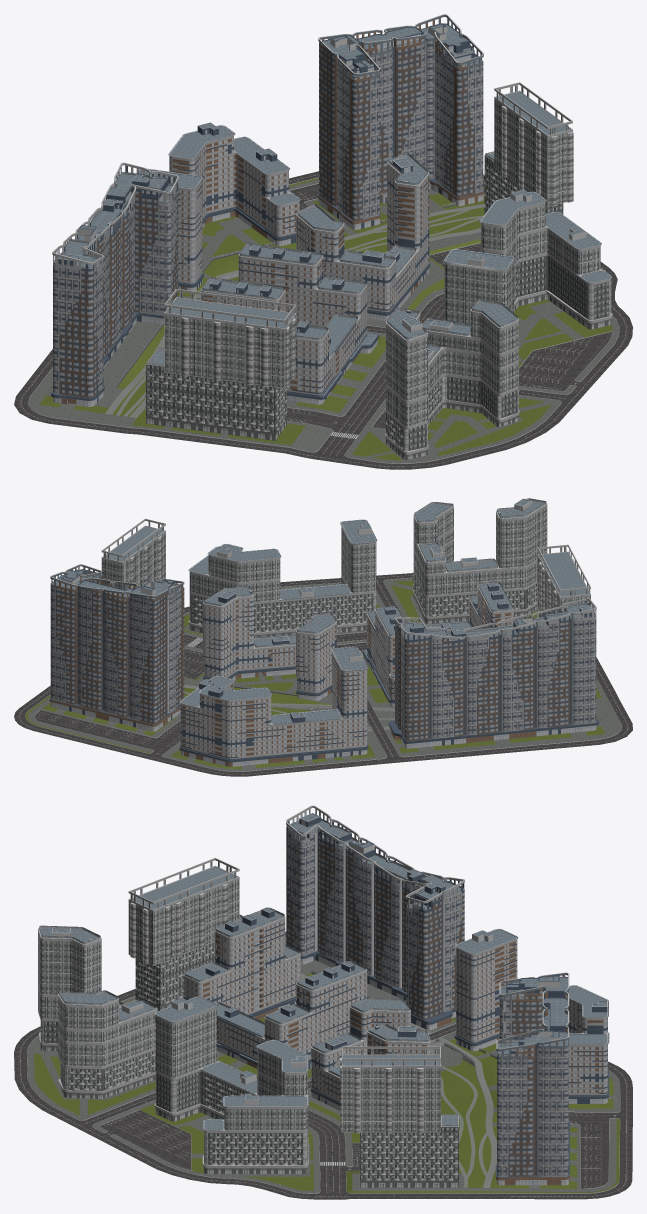
File: modern_city_block.gltf
3 renders of one model, top to bottom at view 1: azimuth 30°, elevation 25°; view 2: azimuth 150°, elevation 25°; view 3: azimuth 270°, elevation 25°, orthographic. The views are drawn at different scales.
Visible parts, largest first — view 1: terrain, Cube.192, Cube.002, Cube.009, Plane.057, Plane.056, roads, Plane.001, Plane.048, Plane.036, Cube.001, borders (+1 smaller); view 2: Cube.002, Cube.192, Plane.048, Plane.056, terrain, Plane.057, roads, Plane.036, Plane.001, Cube.001, Cube.009, borders (+1 smaller); view 3: Cube.002, terrain, Plane.056, Plane.001, roads, Cube.192, Plane.057, Cube.001, Cube.009, Plane.048, Plane.036, borders (+1 smaller).
Boxes of the visible parts, x1,y1,x2,y2 form: terrain: (28, 178, 619, 463); Cube.192: (317, 14, 484, 229); Cube.002: (51, 162, 178, 406); Cube.009: (145, 289, 296, 440); Plane.057: (385, 299, 519, 459); Plane.056: (443, 189, 612, 329); roads: (14, 171, 632, 469); Plane.001: (201, 243, 378, 404); Plane.048: (139, 122, 300, 291); Plane.036: (296, 153, 429, 321); Cube.001: (484, 82, 573, 214); borders: (27, 177, 619, 463); Cube.002: (388, 598, 598, 748); Cube.192: (49, 564, 184, 731); Plane.048: (179, 646, 368, 766); Plane.056: (188, 519, 377, 637); terrain: (25, 578, 621, 771); Plane.057: (413, 498, 547, 623); roads: (14, 573, 632, 776); Plane.036: (202, 586, 336, 700); Plane.001: (363, 581, 513, 706); Cube.001: (101, 518, 165, 589); Cube.009: (537, 544, 590, 617); borders: (25, 577, 621, 771); Cube.002: (286, 805, 464, 1030); terrain: (27, 937, 619, 1193); Plane.056: (154, 996, 308, 1173); Plane.001: (183, 907, 367, 1068); roads: (14, 931, 632, 1199); Cube.192: (495, 972, 569, 1185); Plane.057: (38, 925, 157, 1098); Cube.001: (340, 1046, 458, 1187); Cube.009: (128, 858, 242, 1010); Plane.048: (454, 929, 609, 1103); Plane.036: (310, 998, 430, 1110); borders: (26, 937, 620, 1193).
Bounding box in the file's own units: 495 × 141 × 481.
7 materials, 7 textured.
